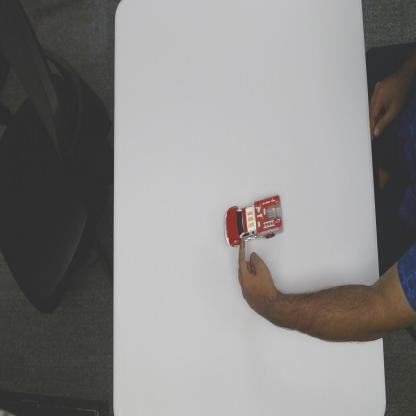Arm: (286, 253, 416, 350)
Firetruck: (224, 192, 283, 246)
Hand: (236, 237, 284, 318)
